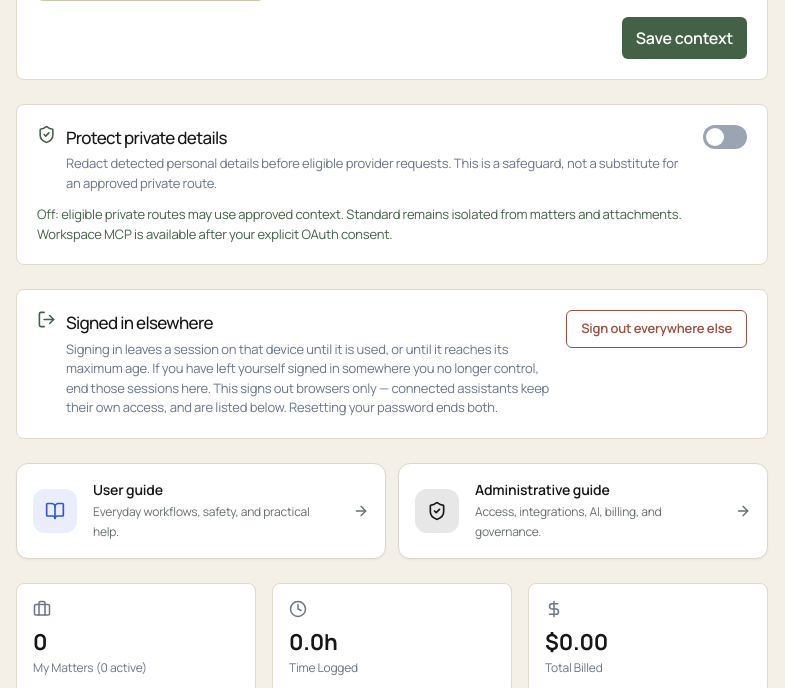
Test: signing out everywhere else › reports that this device stays signed in
(page scrolled)
Click the button "Sign out everywhere else" at (657, 329), box [566, 310, 747, 348]
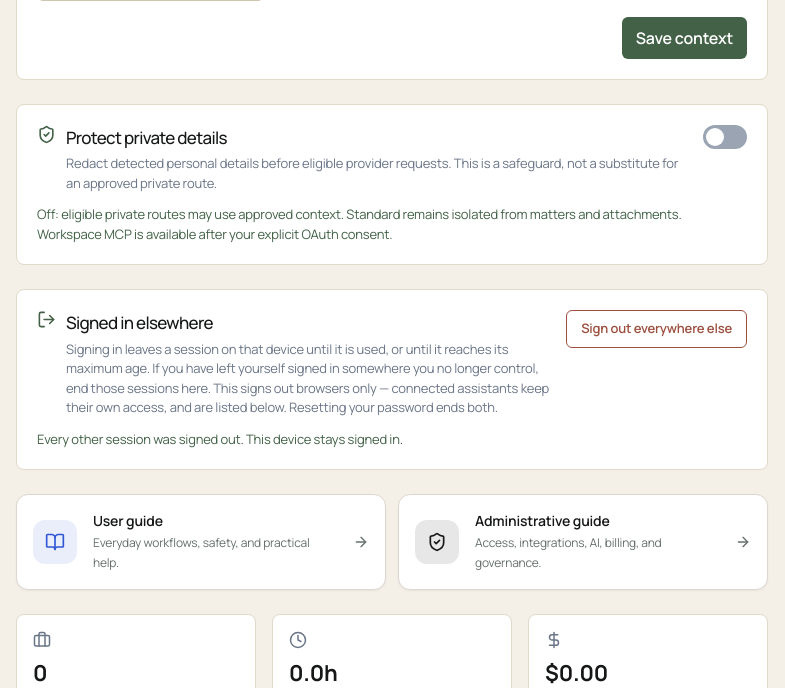
Expected: the text "Every other session was signed out. This device stays signed in." is shown, [37, 430, 403, 448]
